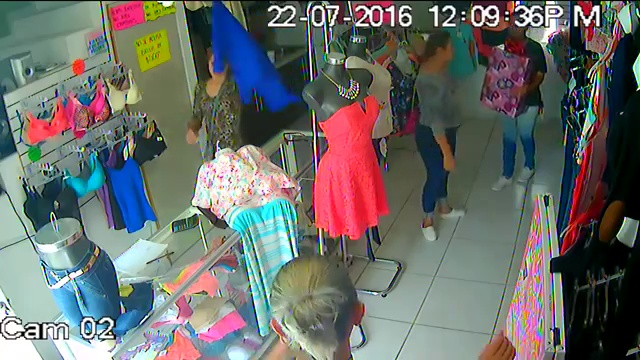face: (440, 42, 453, 64)
